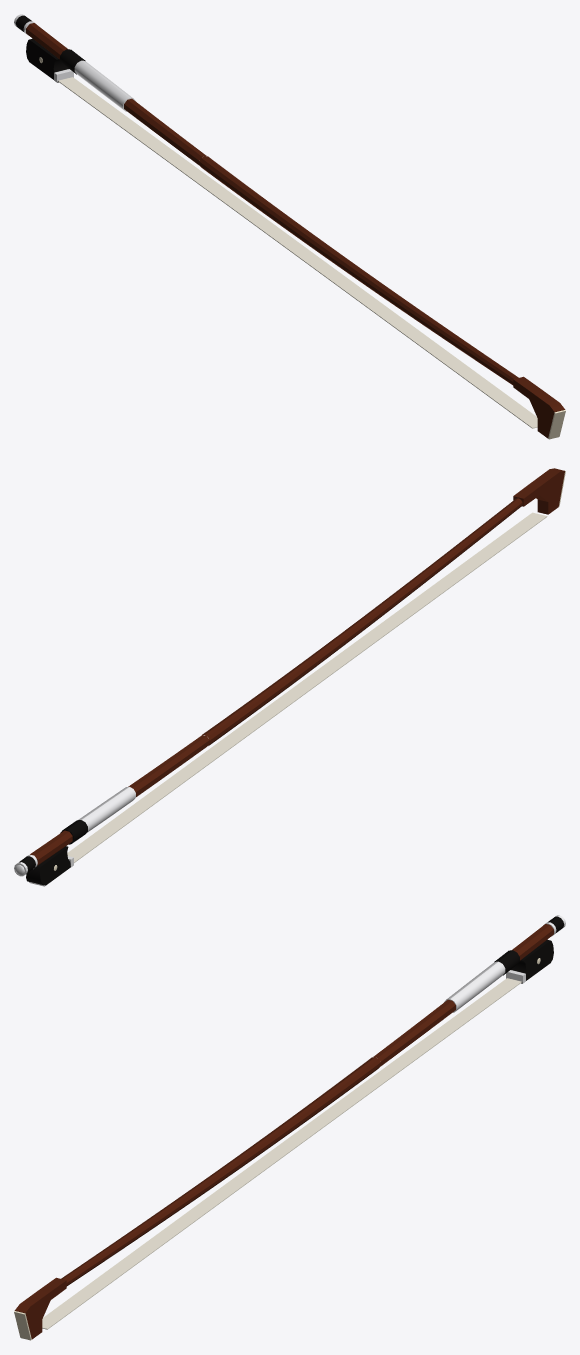
Rendered from cello_bow.glb.
3 views of the same model, one above another, from view 1: azimuth 30°, elevation 25°; view 2: azimuth 150°, elevation 25°; view 3: azimuth 330°, elevation 25° (orthographic).
Parts seen in each view (by area): view 1: cello_bow_pernambuco, cello_bow_hair, cello_bow_ebony, cello_bow_silver; view 2: cello_bow_pernambuco, cello_bow_hair, cello_bow_ebony, cello_bow_silver; view 3: cello_bow_pernambuco, cello_bow_hair, cello_bow_ebony, cello_bow_silver.
Part boxes in pixels (x1,y1,x2,y2): cello_bow_pernambuco: (26,23,565,438); cello_bow_hair: (58,77,537,428); cello_bow_ebony: (15,15,85,82); cello_bow_silver: (14,14,135,111); cello_bow_pernambuco: (30,468,564,865); cello_bow_hair: (67,512,547,862); cello_bow_ebony: (19,820,87,885); cello_bow_silver: (14,786,135,886); cello_bow_pernambuco: (14,924,553,1339); cello_bow_hair: (42,978,521,1329); cello_bow_ebony: (494,916,564,983); cello_bow_silver: (444,915,565,1012).
Size of the model in its own units: 0.0138 by 0.0272 by 0.7591.
